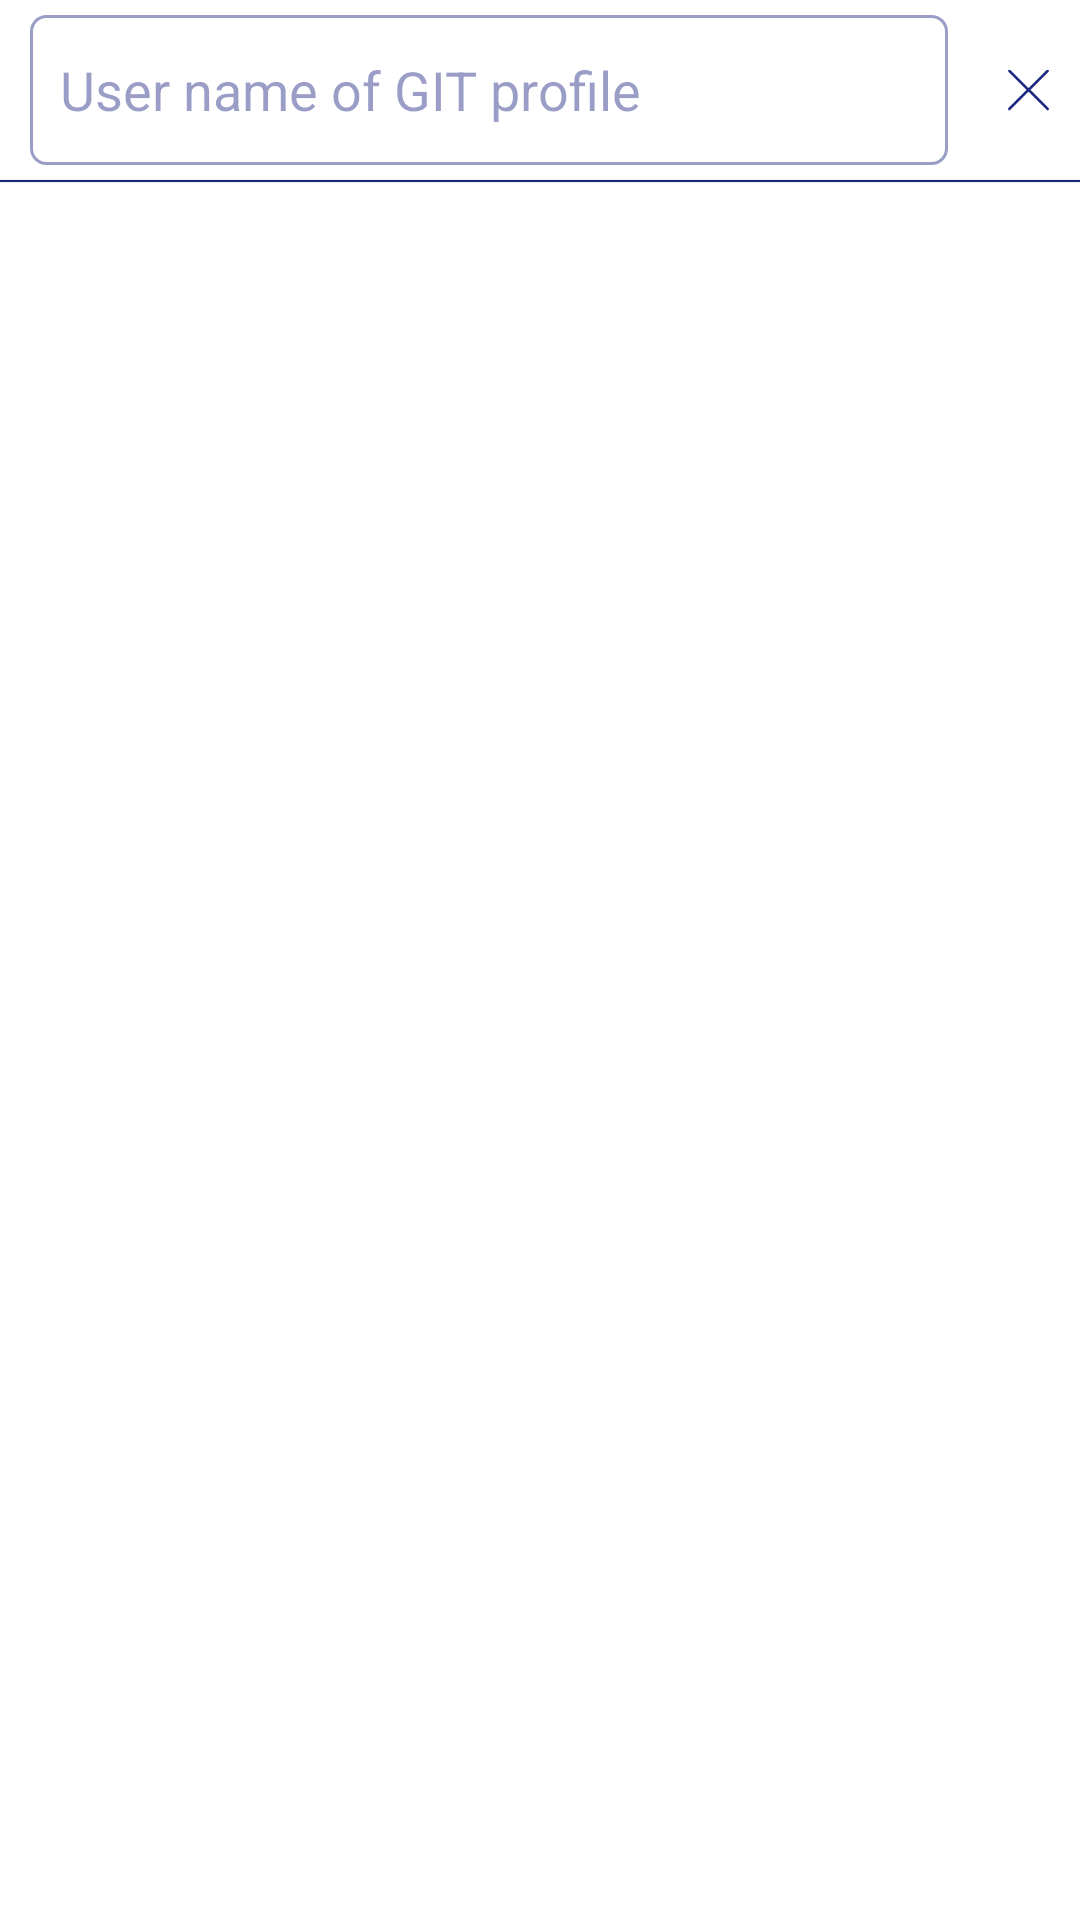

Named icons in this screenshot (1080 x 1920) and their bounding boxes, (x1, y1, x2, y2):
close: (1008, 70, 1049, 111)
